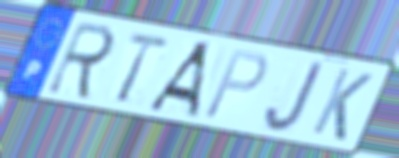A: (144, 39, 215, 122)
J: (263, 58, 327, 134)
K: (308, 65, 376, 144)
P: (200, 48, 272, 122)
R: (43, 19, 120, 103)
T: (113, 30, 175, 105)
